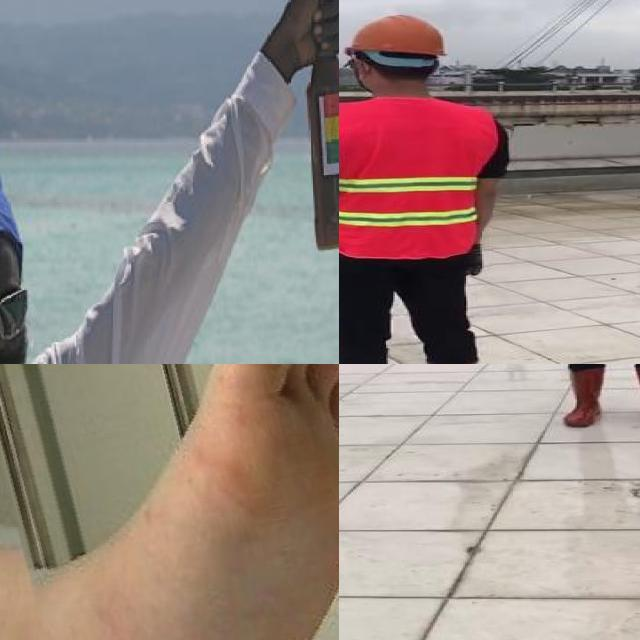Barefoots: (55, 364, 339, 640)
boots: (558, 366, 606, 428)
face_nomask: (0, 285, 32, 364)
glasses: (0, 288, 30, 342)
hand_noglove: (254, 0, 339, 65)
head_helmet: (340, 14, 452, 56)
head_nohelmet: (0, 180, 35, 283)
person: (339, 9, 519, 364), (0, 75, 129, 364)
vest: (339, 98, 494, 258)
